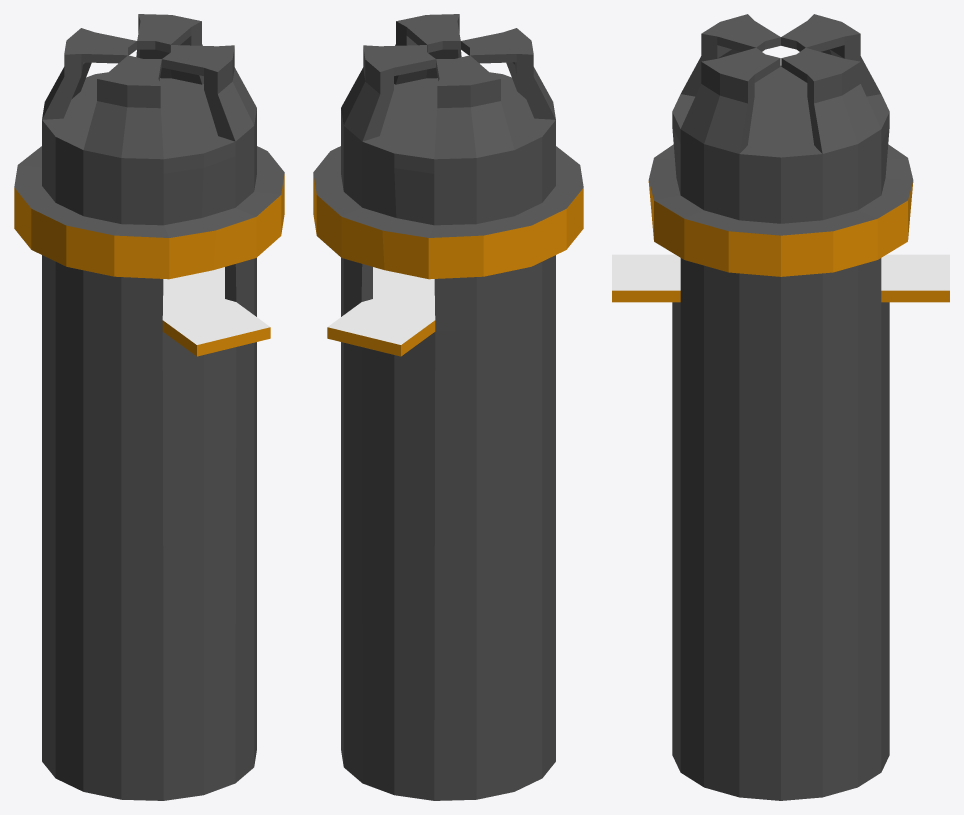
Rendered from Decorations_Basefbx.fbx.
3 renders of one model, left to right at view 1: azimuth 30°, elevation 25°; view 2: azimuth 150°, elevation 25°; view 3: azimuth 270°, elevation 25°, orthographic.
Parts seen in each view (by area): view 1: Cylinder; view 2: Cylinder; view 3: Cylinder.
Boxes of the visible parts, bbox=[...] form: Cylinder: bbox=[14, 14, 284, 800]; Cylinder: bbox=[313, 14, 583, 800]; Cylinder: bbox=[612, 14, 949, 800].
Size of the model in its own units: 21737 by 62025 by 26857.
1 material, 1 textured.
